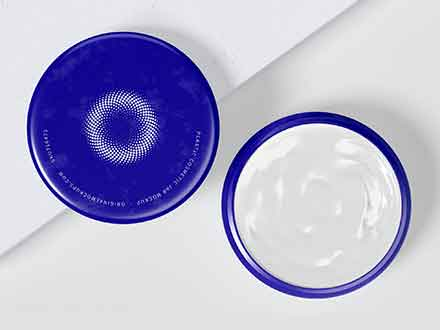Medicine: (19, 27, 221, 226), (219, 104, 416, 304)
